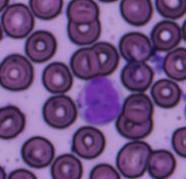M: (76, 74, 124, 126)
